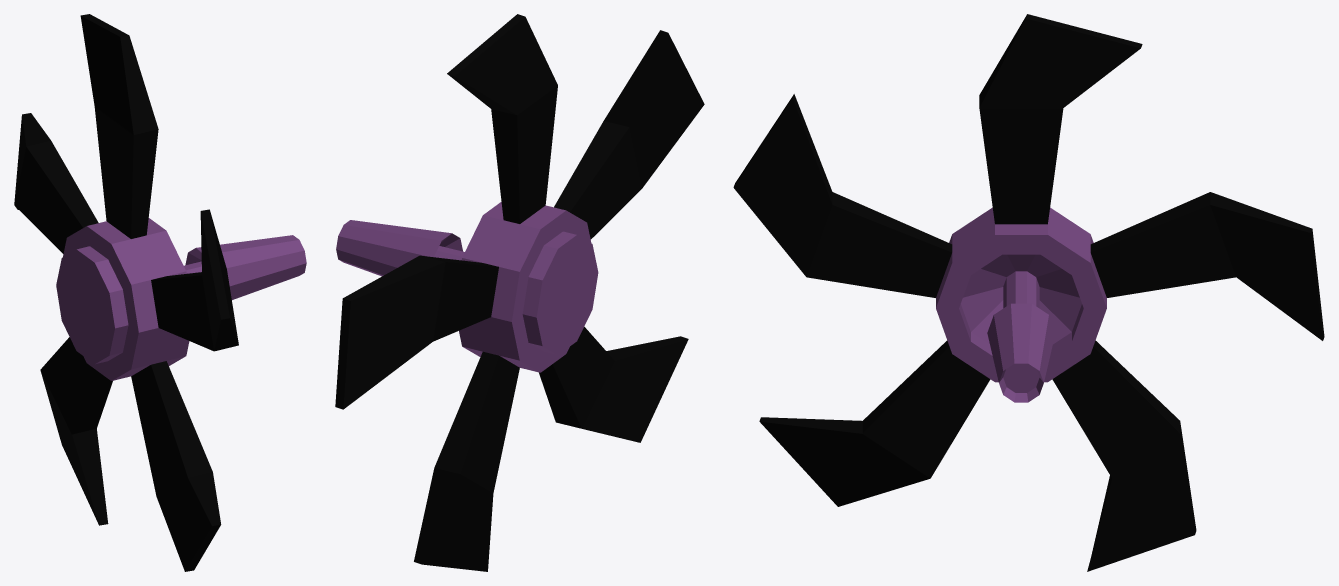
File: pervane.fbx
3 renders of one model, left to right at view 1: azimuth 30°, elevation 25°; view 2: azimuth 150°, elevation 25°; view 3: azimuth 270°, elevation 25°, orthographic. The views are drawn at different scales.
Parts seen in each view (by area): view 1: Sphere.001; view 2: Sphere.001; view 3: Sphere.001.
Part boxes in pixels (left/top/right/bottom): Sphere.001: left=14, top=14, right=306, bottom=571; Sphere.001: left=335, top=14, right=704, bottom=571; Sphere.001: left=733, top=14, right=1324, bottom=571.
Size of the model in its own units: 179 by 415 by 404.
